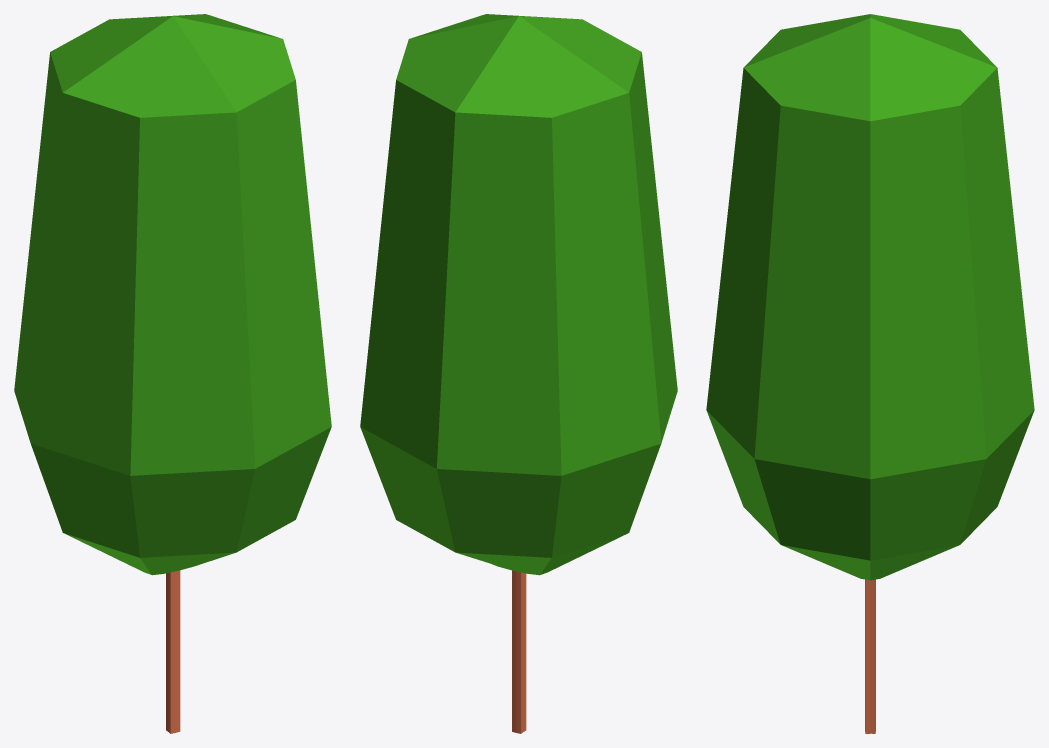
The model's file is basic_tree.glb.
3 views of the same model, side by side, from view 1: azimuth 30°, elevation 25°; view 2: azimuth 150°, elevation 25°; view 3: azimuth 270°, elevation 25° (orthographic).
Visible parts, largest first — view 1: Cube.002; view 2: Cube.002; view 3: Cube.002.
Boxes of the visible parts, left/top/right/bottom form: Cube.002: left=14, top=14, right=331, bottom=733; Cube.002: left=360, top=14, right=677, bottom=733; Cube.002: left=706, top=14, right=1034, bottom=733.
Bounding box in the file's own units: 1.7 × 4.08 × 1.7.
